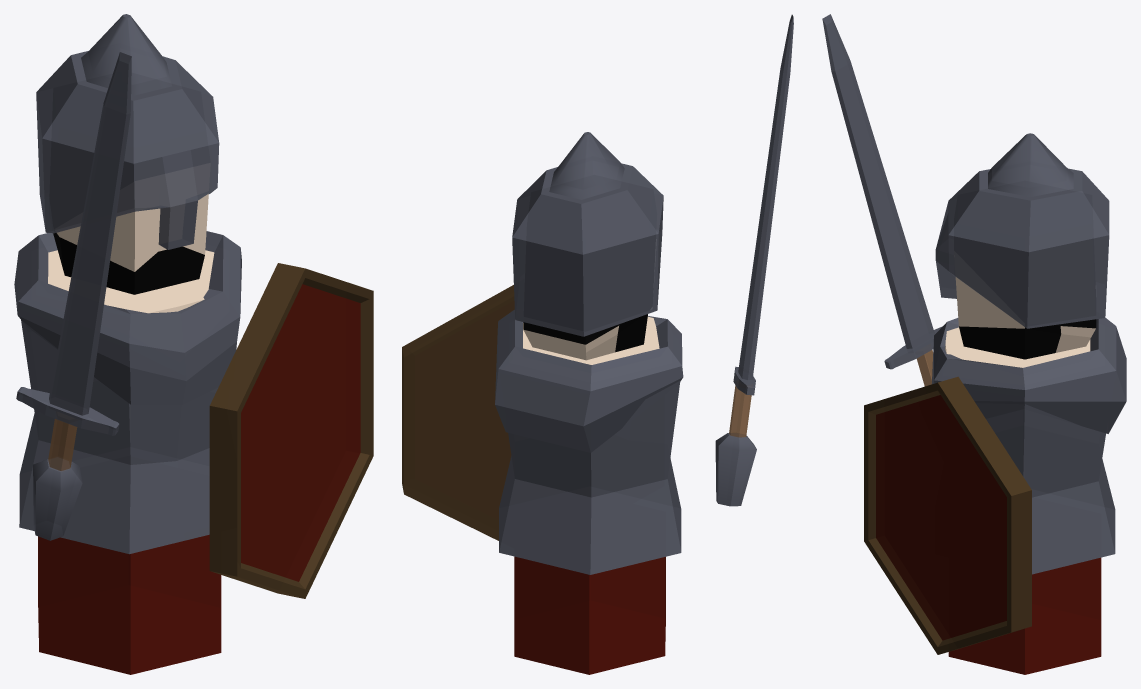
File: MDL_Baron.fbx
3 renders of one model, left to right at view 1: azimuth 30°, elevation 25°; view 2: azimuth 150°, elevation 25°; view 3: azimuth 270°, elevation 25°, orthographic. The views are drawn at different scales.
Parts seen in each view (by area): view 1: Cylinder.002; view 2: Cylinder.002; view 3: Cylinder.002.
Boxes of the visible parts, bbox=[...] form: Cylinder.002: bbox=[14, 14, 373, 674]; Cylinder.002: bbox=[402, 14, 793, 674]; Cylinder.002: bbox=[822, 14, 1126, 674].
Bounding box in the file's own units: 77.77 × 63.57 × 132.
